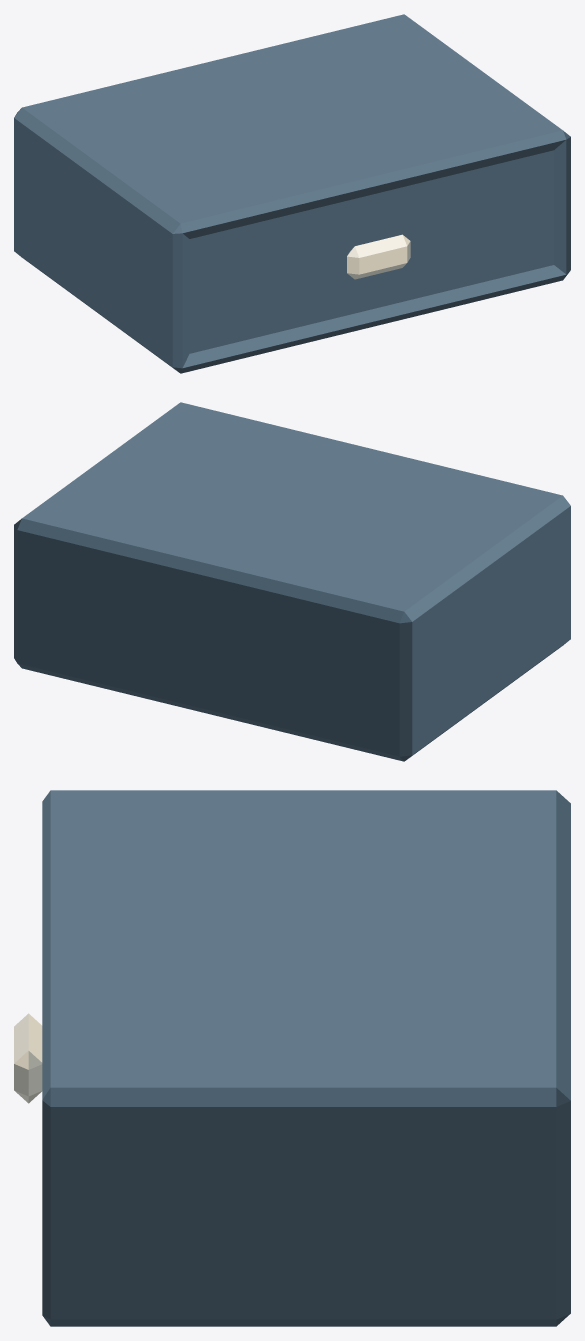
The model's file is Door_Lintel.gltf.
3 views of the same model, one above another, from view 1: azimuth 30°, elevation 25°; view 2: azimuth 150°, elevation 25°; view 3: azimuth 270°, elevation 25° (orthographic). The views are drawn at different scales.
Parts seen in each view (by area): view 1: Door_Lintel_baked; view 2: Door_Lintel_baked; view 3: Door_Lintel_baked.
Part boxes in pixels (x1,y1,x2,y2): Door_Lintel_baked: (14, 14, 570, 373); Door_Lintel_baked: (14, 402, 570, 761); Door_Lintel_baked: (14, 790, 570, 1326).
Size of the model in its own units: 1 by 0.36 by 0.76.
